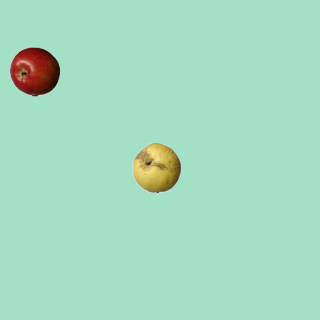Apple Braeburn: (9, 46, 59, 96)
Apple Golden 1: (131, 142, 181, 192)
